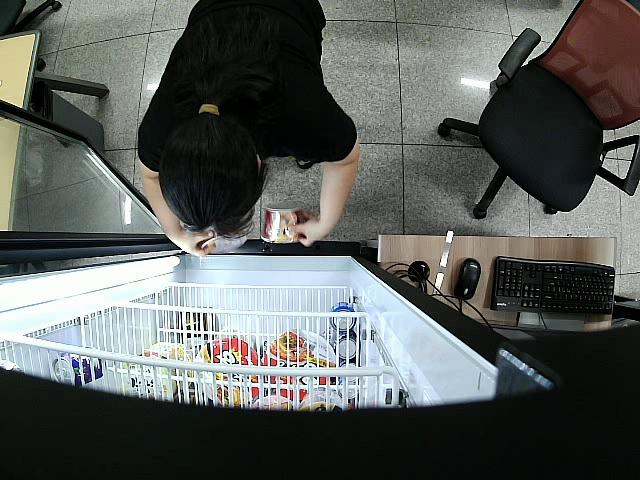00_hand: (287, 216, 330, 248), (175, 230, 217, 259)
05_nuguri_L: (259, 204, 311, 246), (195, 226, 247, 257)
